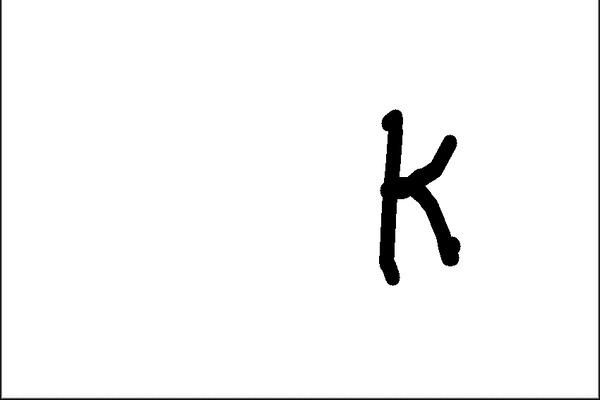K: (369, 101, 476, 296)
